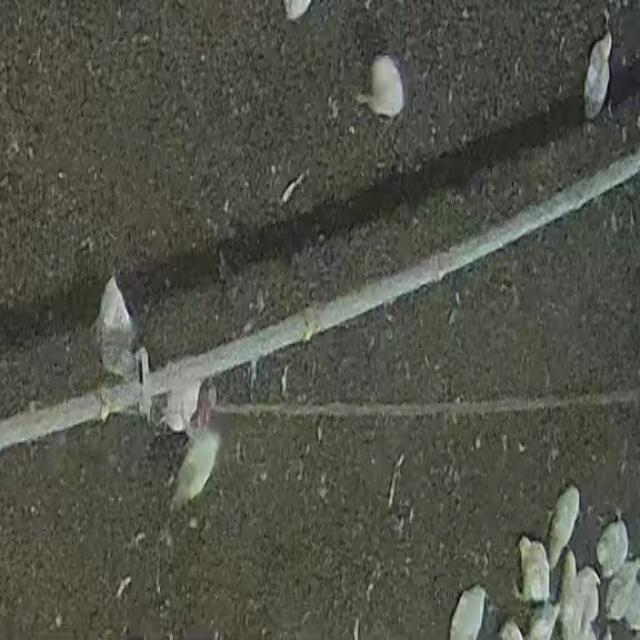chicken: (95, 271, 139, 375), (169, 433, 224, 507), (356, 49, 409, 121), (514, 534, 554, 608), (548, 481, 578, 567)
